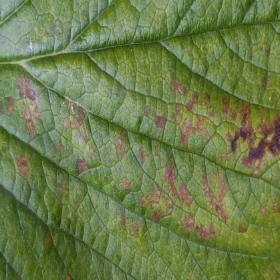Angular Leafspot: (1, 32, 279, 279)
